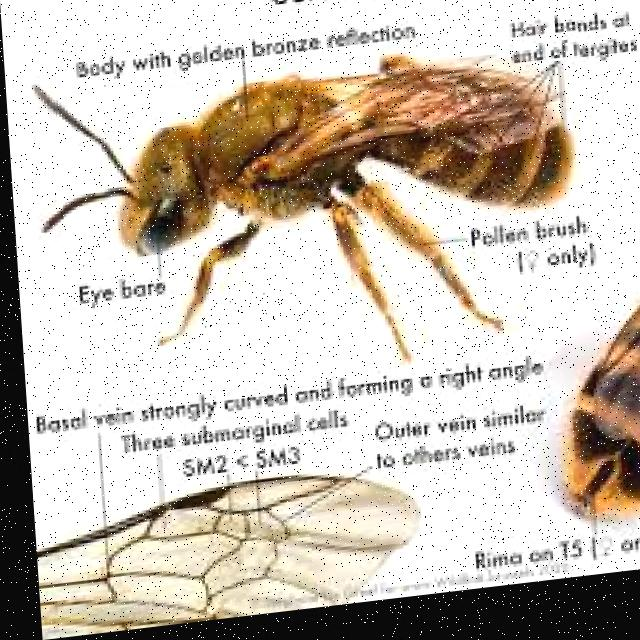Seladonia: (53, 20, 592, 377)
